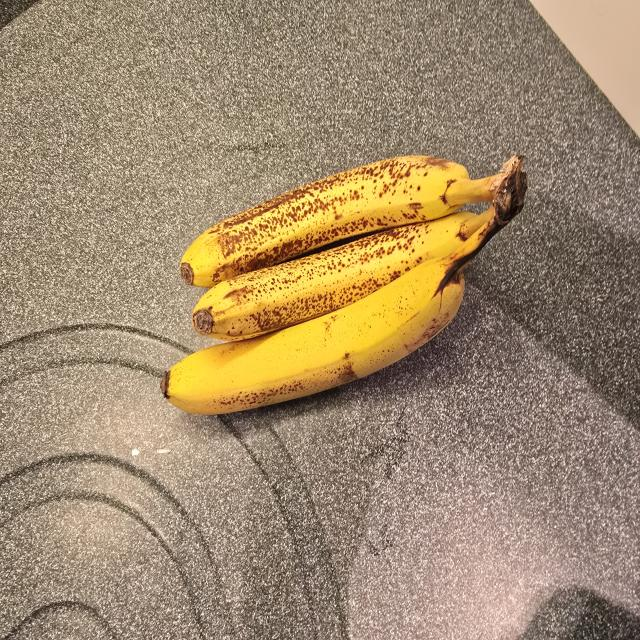Banana: (161, 219, 494, 413), (180, 156, 525, 287), (193, 208, 494, 340)
